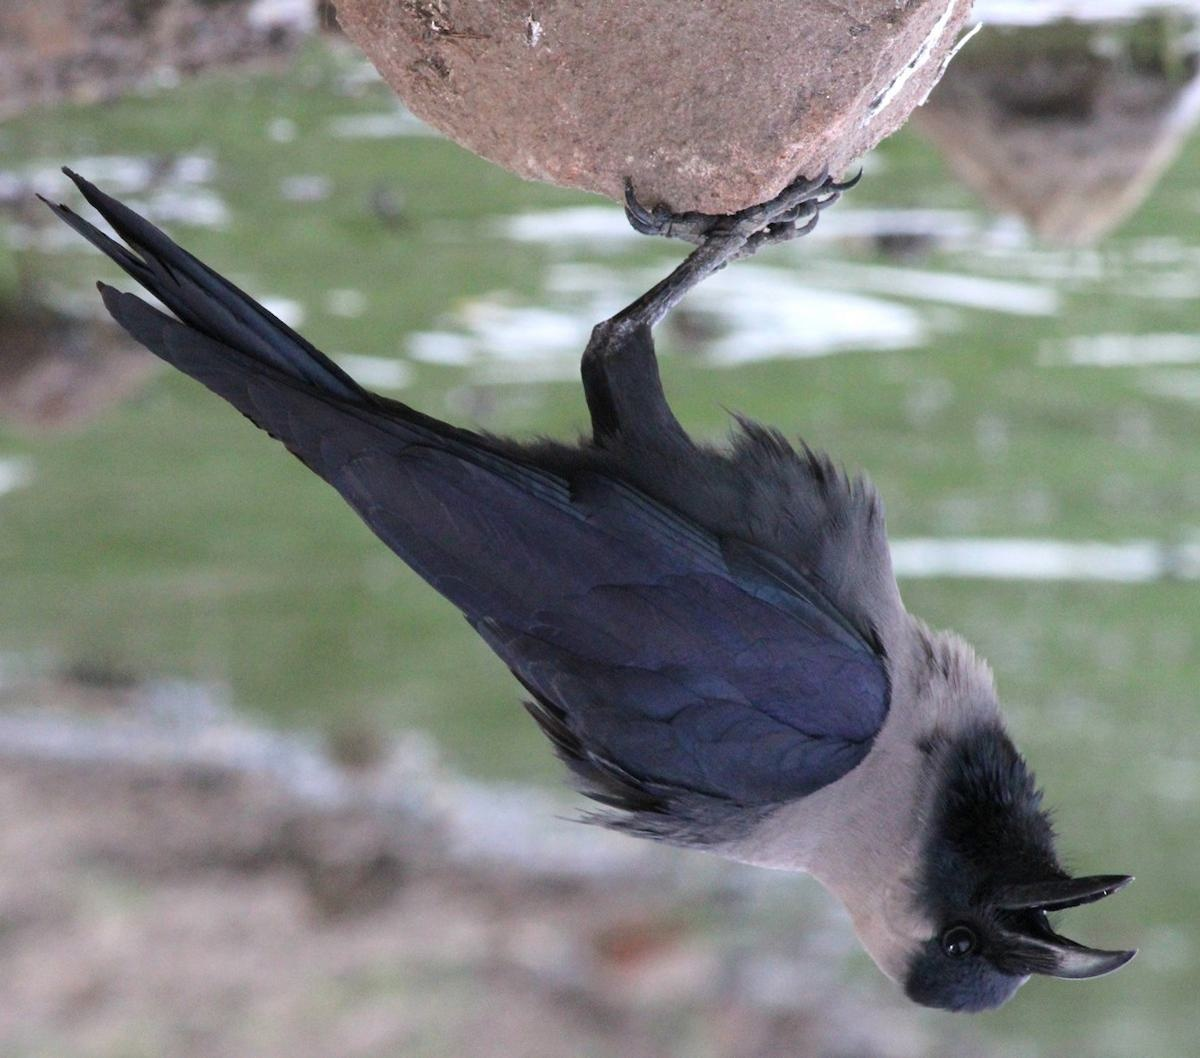crow: (1, 130, 1156, 1014)
